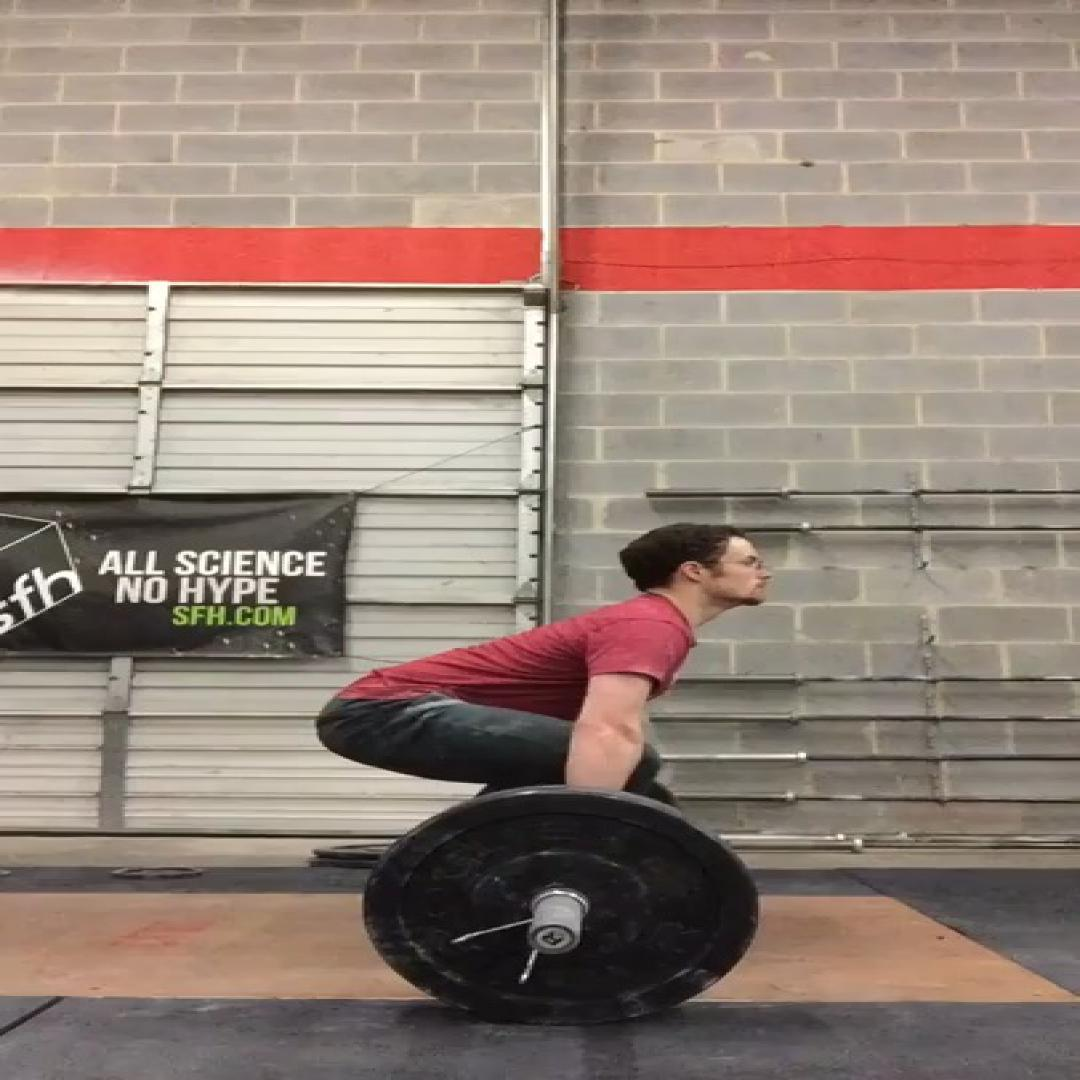Bar: (526, 922, 582, 954)
Barbell: (362, 794, 763, 1024)
